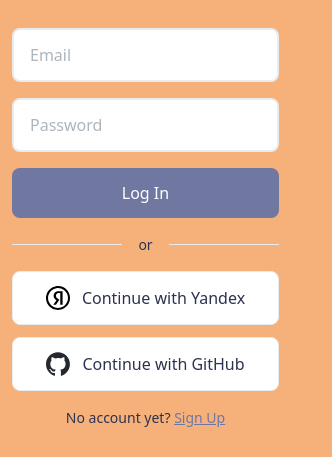
Test: Authentication Forms › LoginForm › shows error for short password
Type "123" into the password field with placeholder "Password" at point(146, 125), box [12,98,279,152]
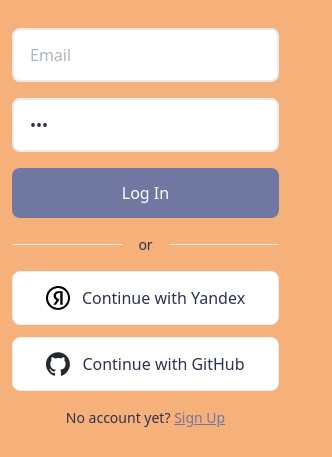
Leave the password field with placeholder "Password", box [12,98,279,152]
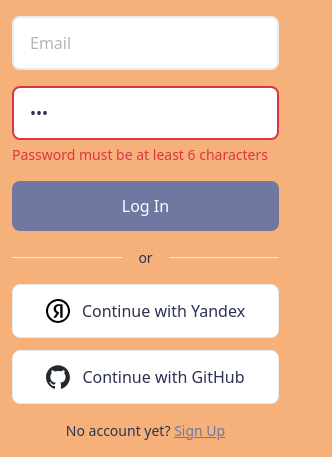
expect the text "Password must be at least 6 characters" is shown: met, box [12,144,279,164]
